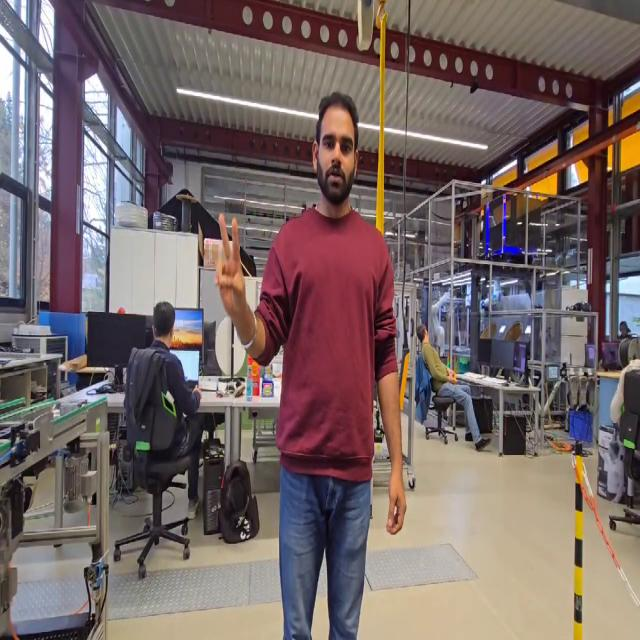v_sign: (211, 210, 249, 328)
